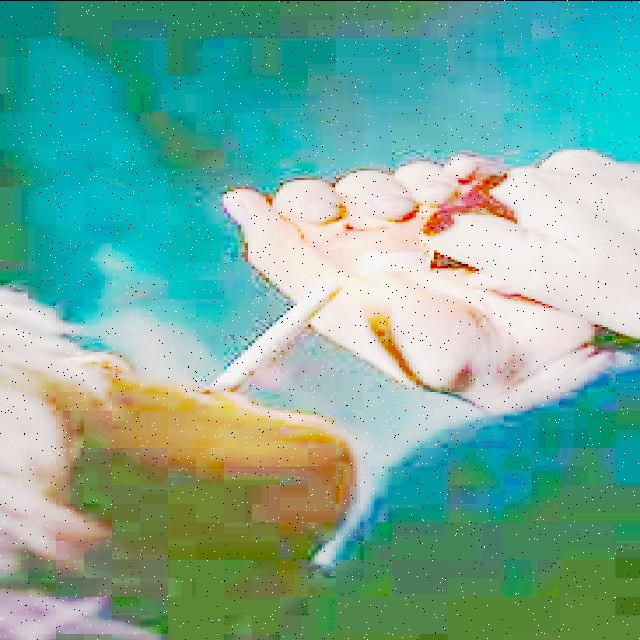api: (344, 239, 428, 290)
